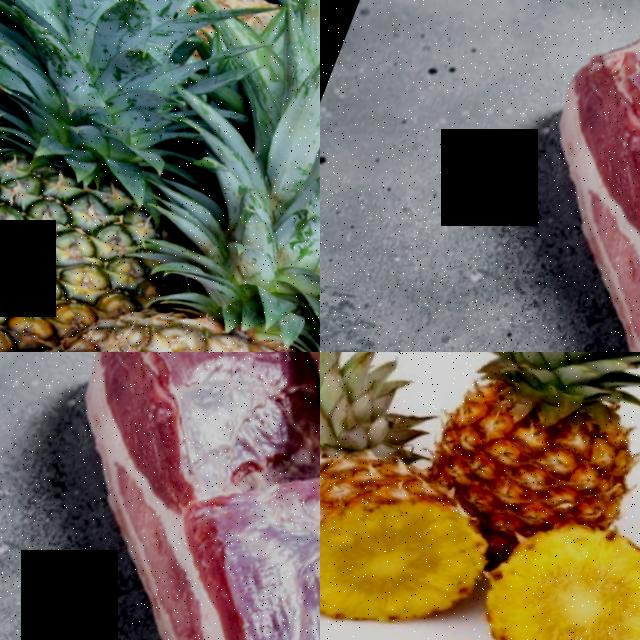pineapple: (0, 70, 182, 352), (320, 408, 513, 640), (423, 352, 640, 553), (0, 246, 320, 352)
pork belly: (34, 352, 320, 592), (508, 0, 640, 320), (126, 452, 320, 640)
